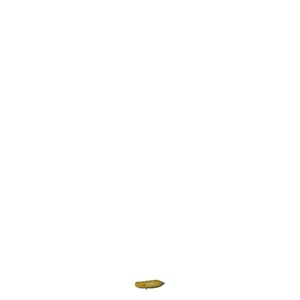banana: (131, 277, 168, 294)
